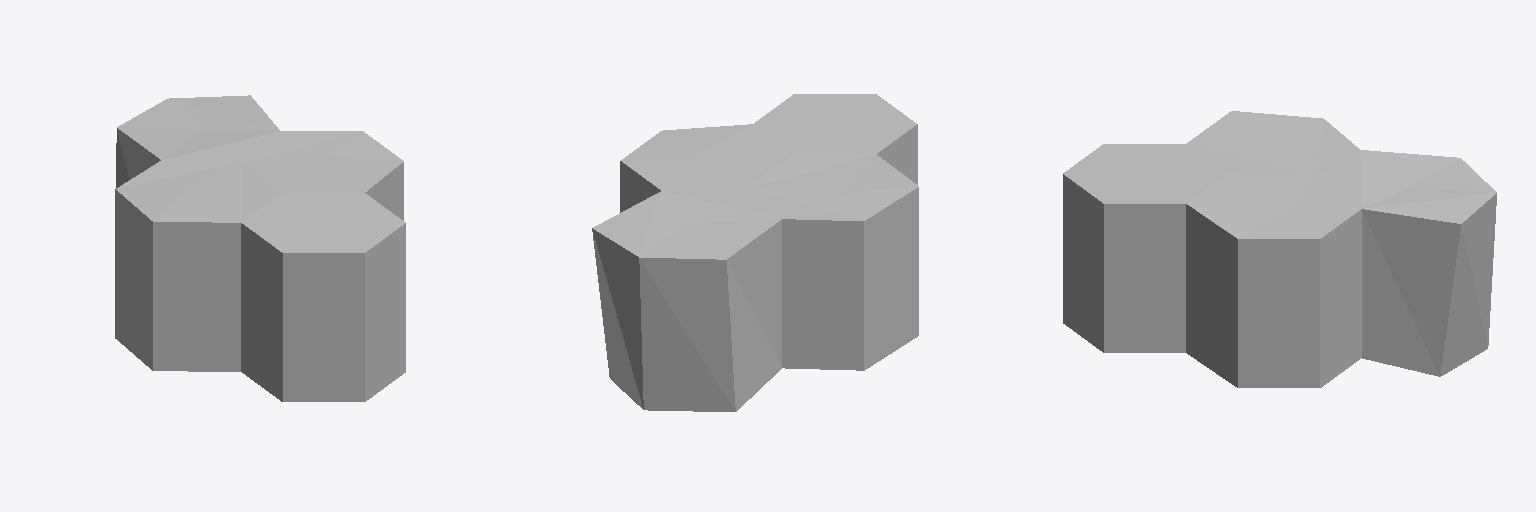
Rendered from hex4.1.obj.
The picture shows the model from 3 angles: view 1: azimuth 30°, elevation 25°; view 2: azimuth 150°, elevation 25°; view 3: azimuth 270°, elevation 25°; orthographic projection.
Parts seen in each view (by area): view 1: base1, base2, top-cell, base3; view 2: top-cell, base2, base3, base1; view 3: base3, top-cell, base1, base2.
Boxes of the visible parts, x1,y1,x2,y2 form: base1: [241, 193, 405, 401]; base2: [115, 160, 281, 371]; top-cell: [116, 95, 279, 188]; base3: [244, 131, 403, 220]; top-cell: [592, 188, 781, 411]; base2: [746, 154, 918, 370]; base3: [620, 124, 793, 212]; base1: [753, 94, 917, 184]; base3: [1186, 174, 1361, 387]; top-cell: [1315, 150, 1496, 376]; base1: [1063, 144, 1226, 352]; base2: [1186, 111, 1359, 178].
Size of the model in its own units: 3.57 by 2.22 by 5.27.